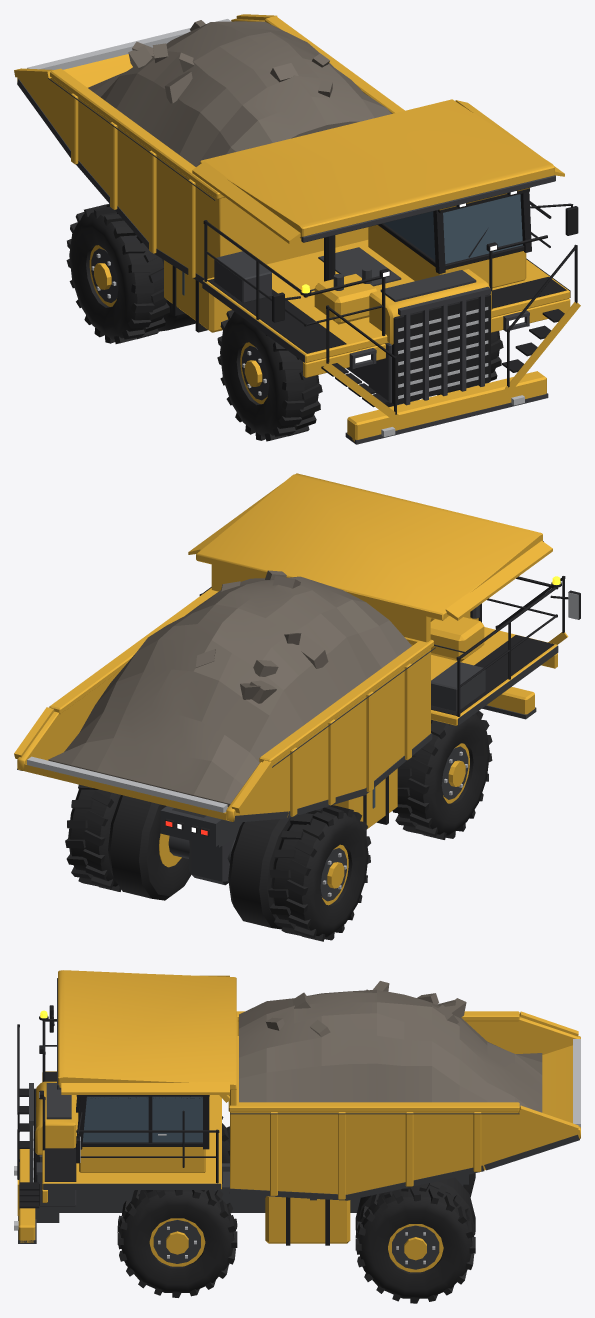
File: hauler.glb
The picture shows the model from 3 angles, top to bottom: view 1: azimuth 30°, elevation 25°; view 2: azimuth 150°, elevation 25°; view 3: azimuth 270°, elevation 25°; orthographic projection. The views are drawn at different scales.
Parts seen in each view (by area): view 1: Chassis_LOD0, Canopy_LOD0, DumpBody_LOD0, Load_LOD0, Cab_LOD0, WheelRearRight_LOD0, WheelFrontRight_LOD0; view 2: Load_LOD0, Canopy_LOD0, DumpBody_LOD0, Chassis_LOD0, WheelRearRight_LOD0, WheelRearLeft_LOD0, WheelFrontRight_LOD0; view 3: DumpBody_LOD0, Load_LOD0, Canopy_LOD0, Chassis_LOD0, WheelRearLeft_LOD0, WheelFrontLeft_LOD0, Cab_LOD0.
Boxes of the visible parts, x1,y1,x2,y2 form: Chassis_LOD0: (164,201,580,444); Canopy_LOD0: (192,99,564,243); DumpBody_LOD0: (14,14,404,283); Load_LOD0: (88,20,392,166); Cab_LOD0: (368,187,578,288); WheelRearRight_LOD0: (66,203,195,343); WheelFrontRight_LOD0: (217,310,322,441); Load_LOD0: (48,570,411,806); Canopy_LOD0: (188,473,552,620); DumpBody_LOD0: (14,564,435,822); Chassis_LOD0: (160,576,580,885); WheelRearRight_LOD0: (228,805,370,941); WheelRearLeft_LOD0: (65,784,191,900); WheelFrontRight_LOD0: (392,711,492,839); DumpBody_LOD0: (228,1011,580,1200); Load_LOD0: (239,981,542,1112); Canopy_LOD0: (57,970,236,1102); Chassis_LOD0: (14,1005,468,1245); WheelRearLeft_LOD0: (355,1177,475,1303); WheelFrontLeft_LOD0: (117,1190,237,1297); Cab_LOD0: (76,1095,209,1172).
Size of the model in its own units: 5.67 by 4.95 by 10.03.
